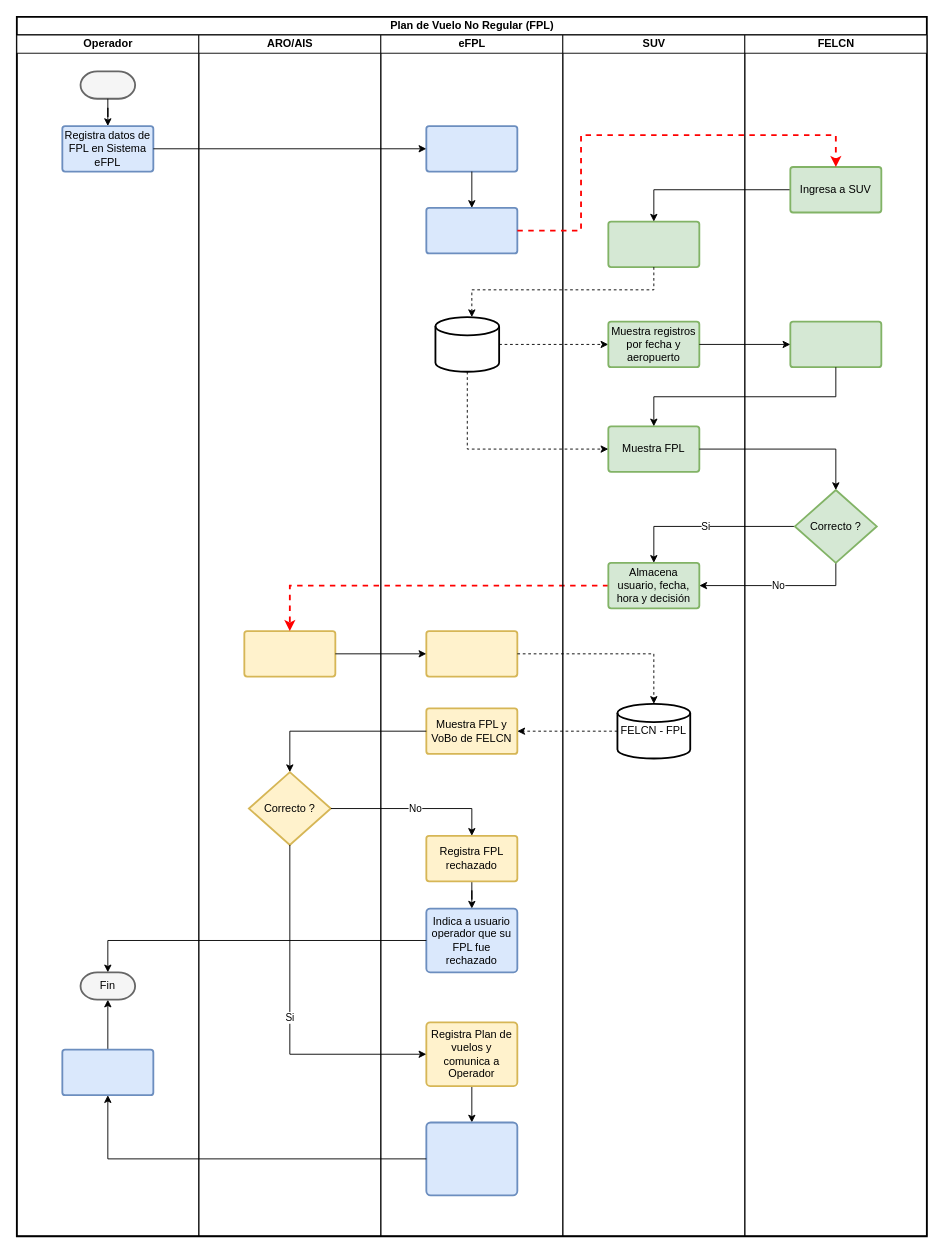
This 943x1252 diagram has some shape labels left out. The centre of each missing label's shape, as x and y in pixels:
Almacena información: (471,230)
Asigna ID-FPL: (471,148)
Busca FPL por fecha y aeropuerto: (653,244)
Busca registro por ID-FPL: (471,653)
Descarga FPL aprobado en medio digital: (107,1072)
FPL: (467,344)
Inicio: (107,84)
Se genera PDF del FLP aprobado para usuario operador: (471,1158)
Selecciona FPL: (835,344)
Selecciona solicitud en el sistema eFPL: (289,653)
